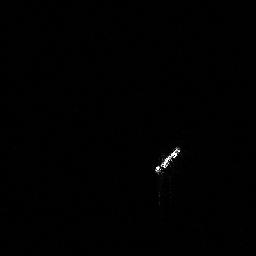ship: (150, 141, 185, 176)
